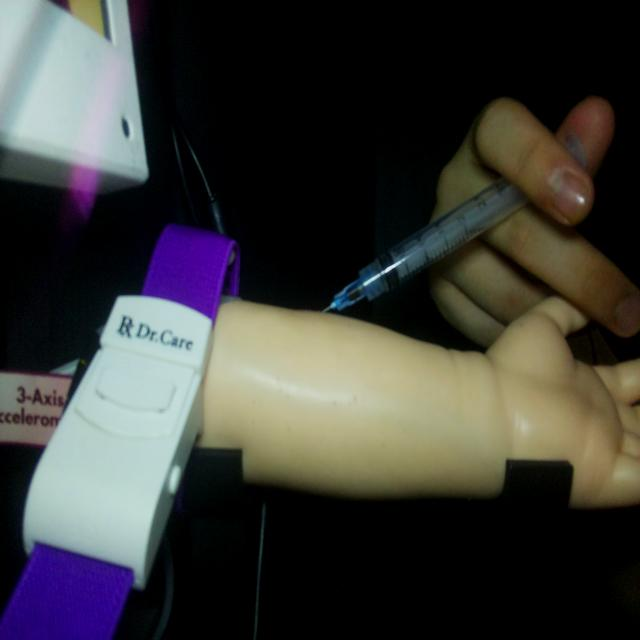24 degrees: (320, 129, 589, 316)
